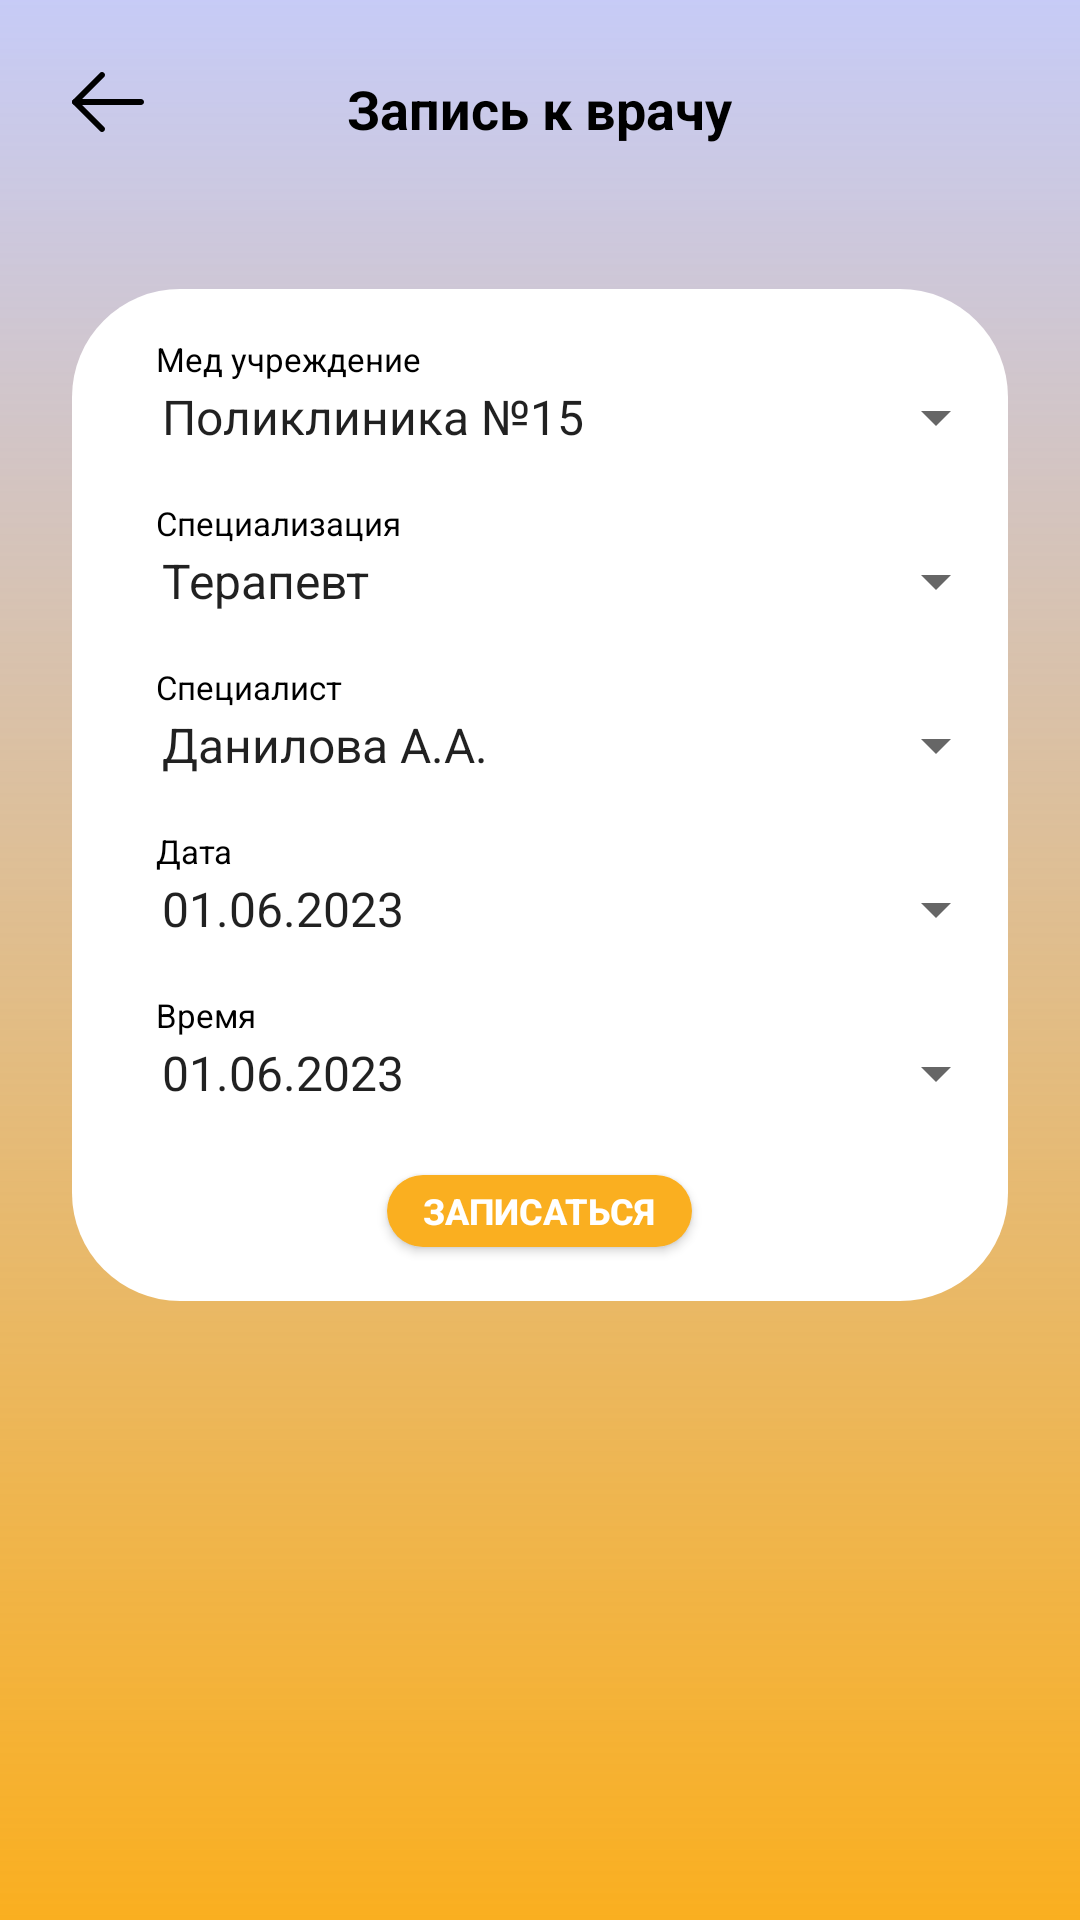

Screen size 1080px x 1920px. Icon name, then its center in pixels as [x,y]:
back: [108,102]
